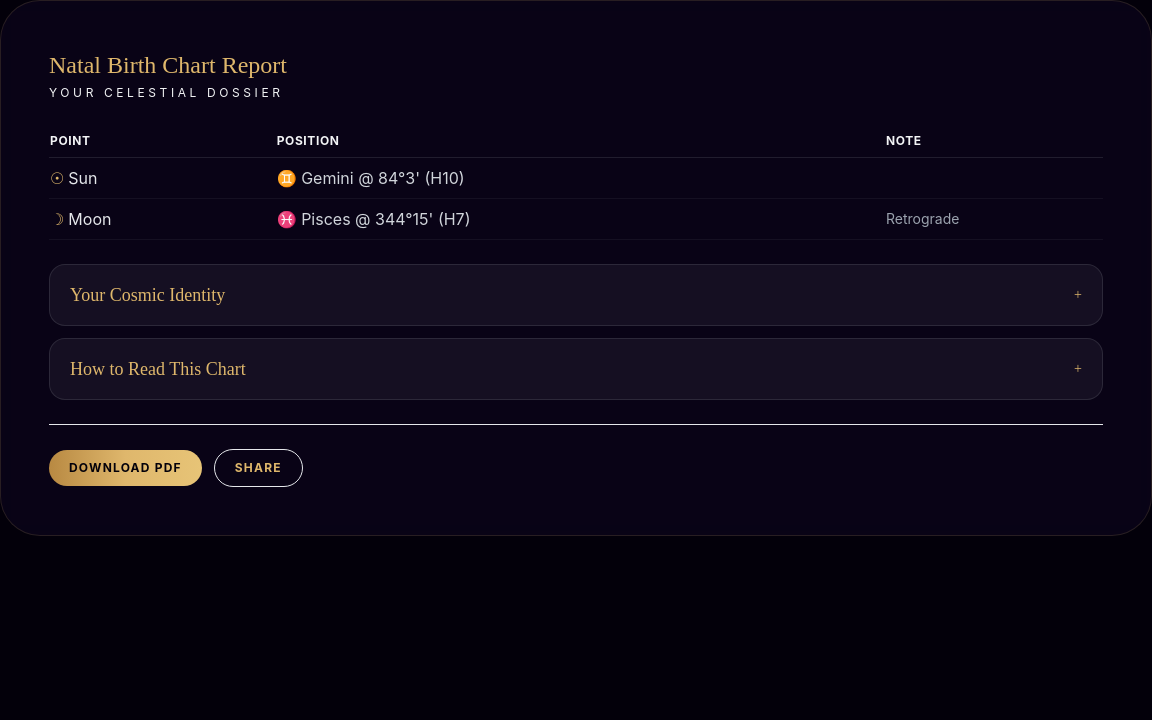
ReportResult structured rendering › Share copies the link to clipboard and reflects 'Link Copied' (jsdom fallback)
The image size is (1152, 720).
Click the button "Share": x=258, y=468 left=214, top=449, right=303, bottom=487
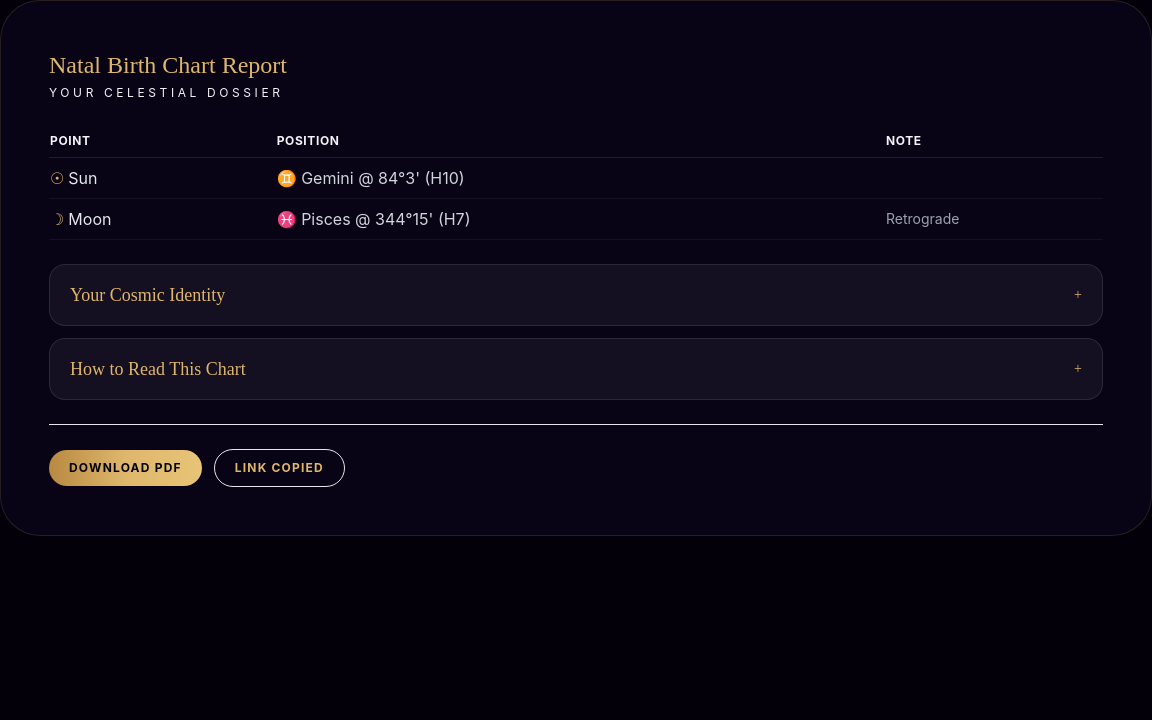
Check: the button "Link Copied" is shown, box left=214, top=449, right=345, bottom=487
